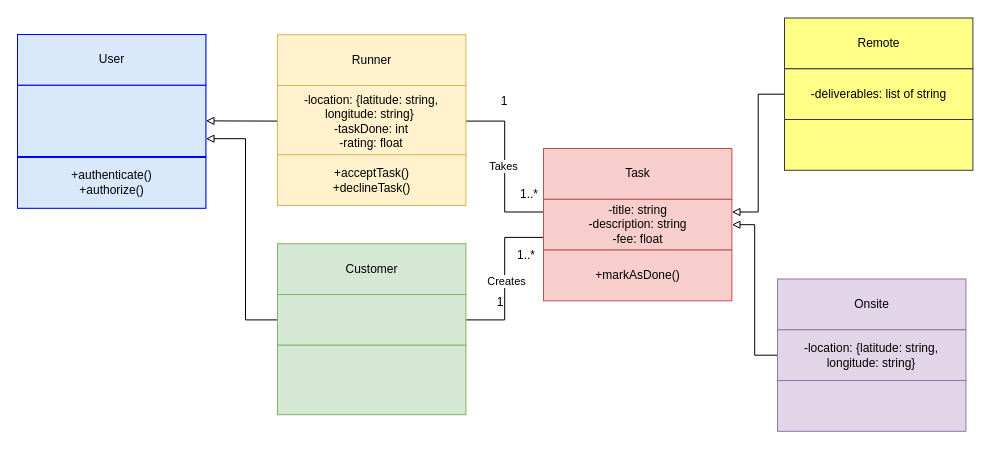
The diagram is 991 pixels wide and 449 high, and some of its shapes have lost their labels. Here are the shapes that lost their labels. From the top down, the centre of each, then its label:
At point 111,120: "-email: string -displayName: string -password: string -isVerified: boolean".
At point 371,319: "-taskCreated: int".
At point 371,379: "+createTask() +transferBill() +deleteTask() +editTask()".
